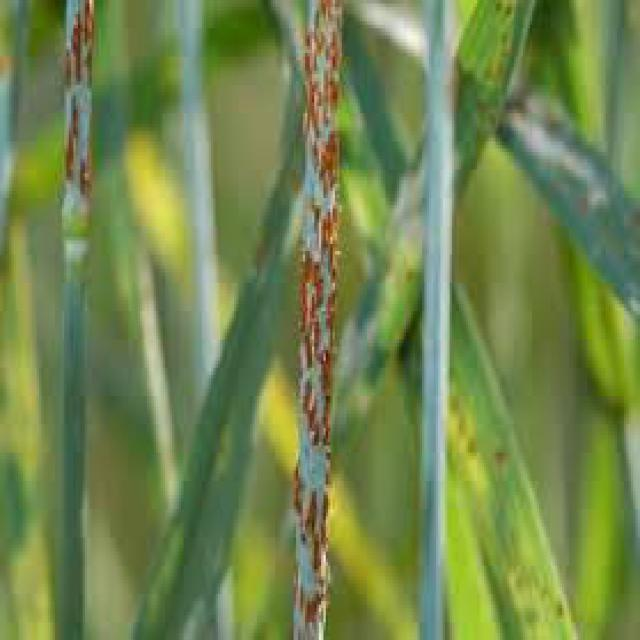wheat-stemrust: (292, 5, 341, 640), (60, 0, 97, 239)
